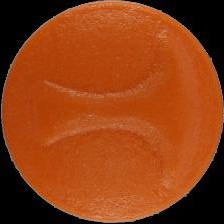63187-530: (0, 0, 224, 224)
